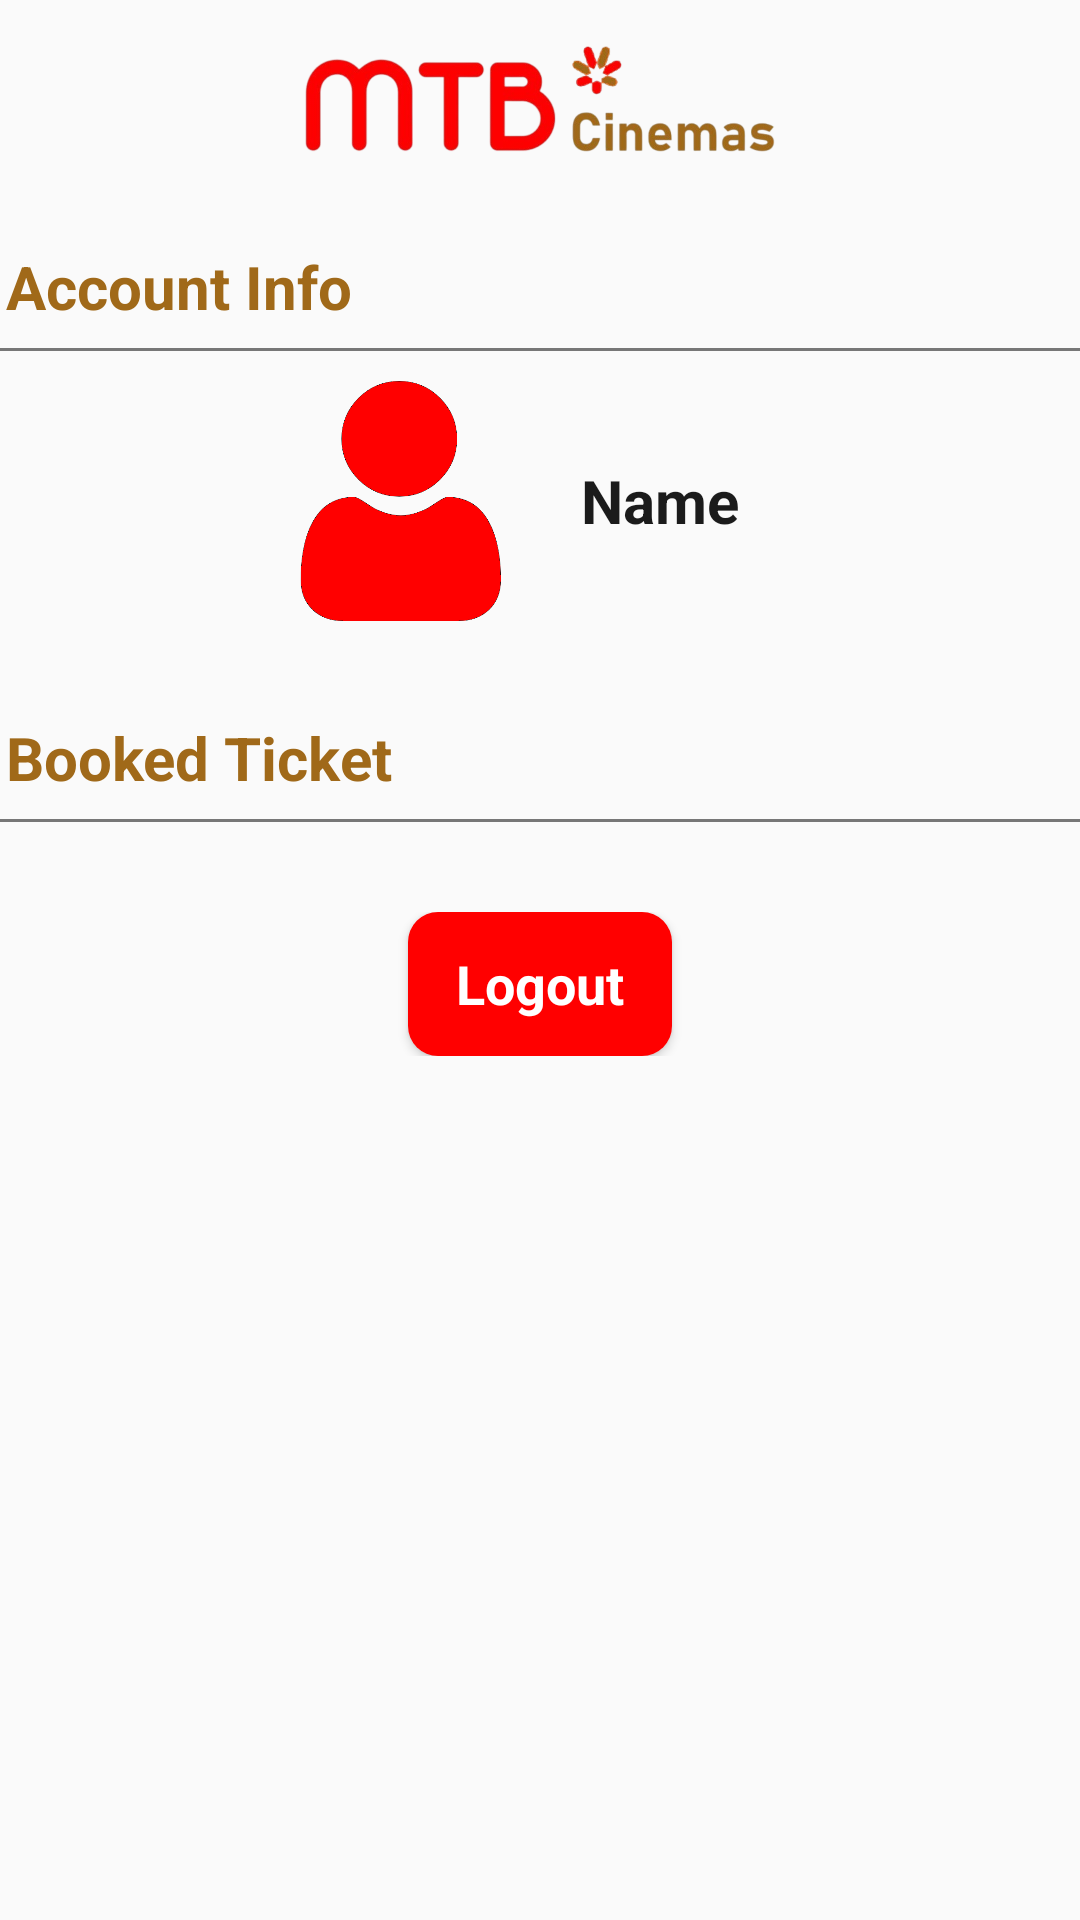

Screen size 1080px x 1920px. Icon name, then its box in pixels as (x1, y1, x2, y2):
user: (300, 381, 501, 621)
